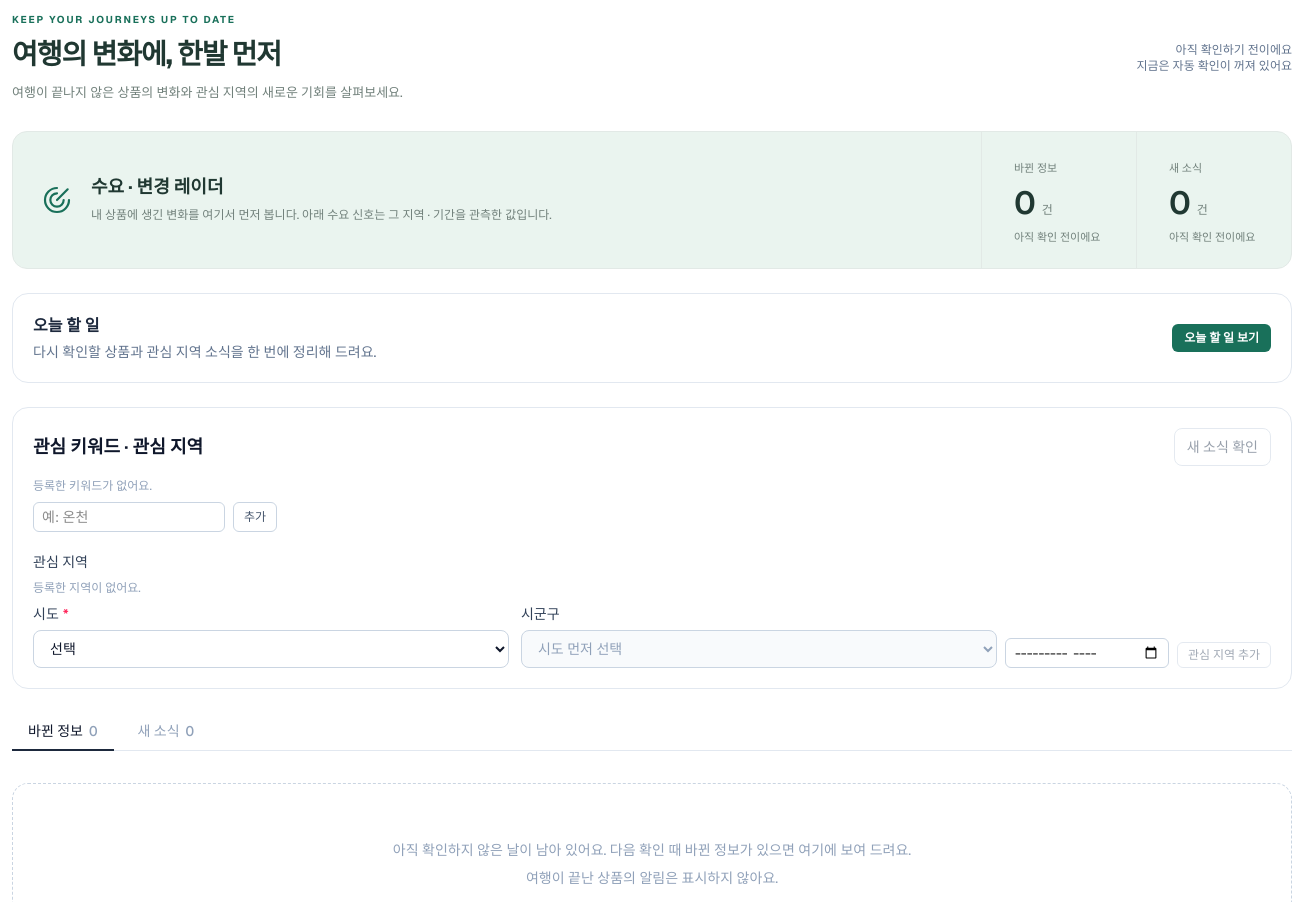
오늘 할 일 — 요청이 실패하면 (FR-AG-005) › 🔴 「지금은 AI로 정리할 수 없어요」와 까닭을 보인다
This screenshot has width=1304, height=902.
Click the button "오늘 할 일 보기" at (1222, 338), box x1=1172 y1=324 x2=1271 y2=352
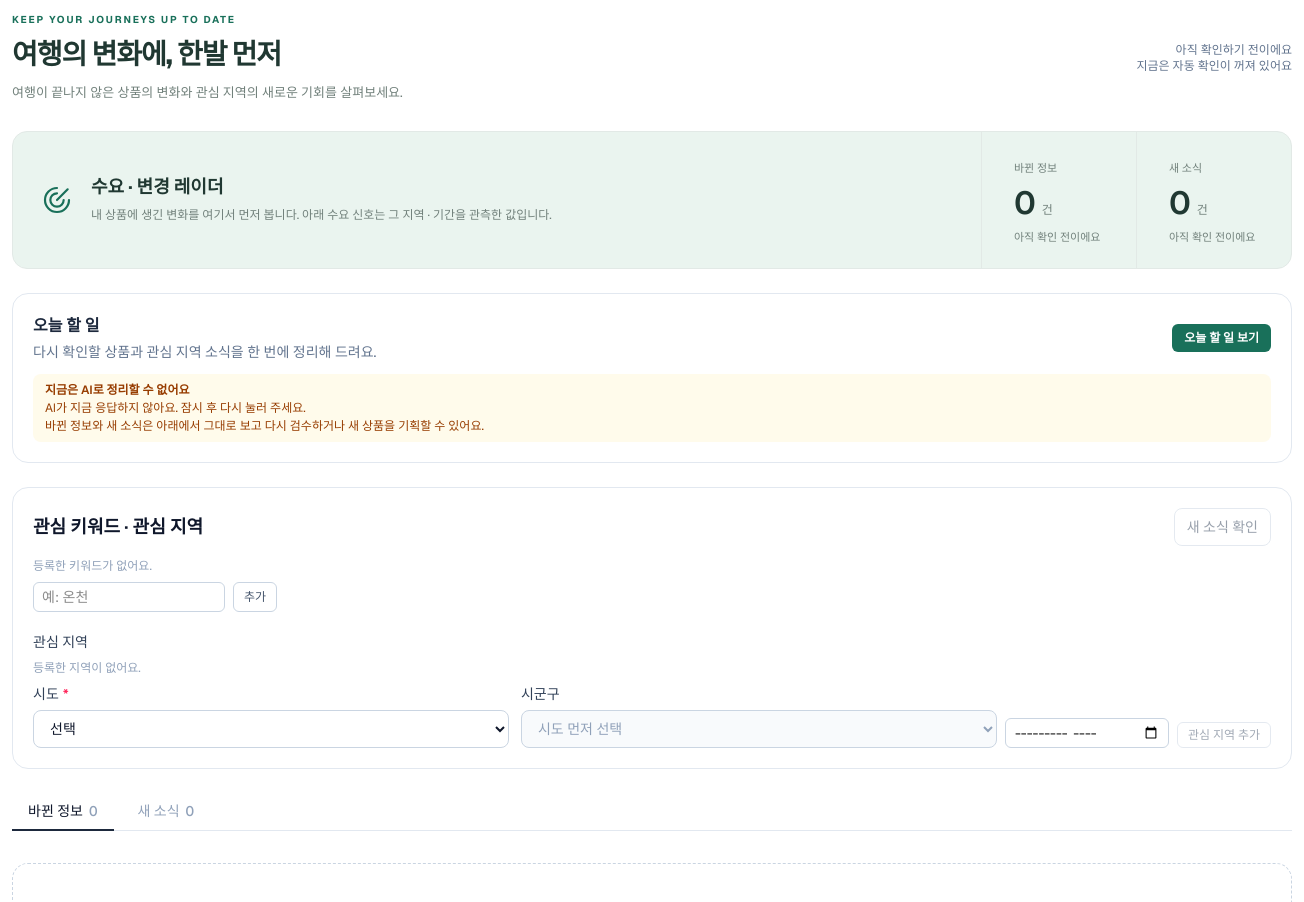
Expected: the text "지금은 AI로 정리할 수 없어요" is shown, x1=45 y1=382 x2=190 y2=398
